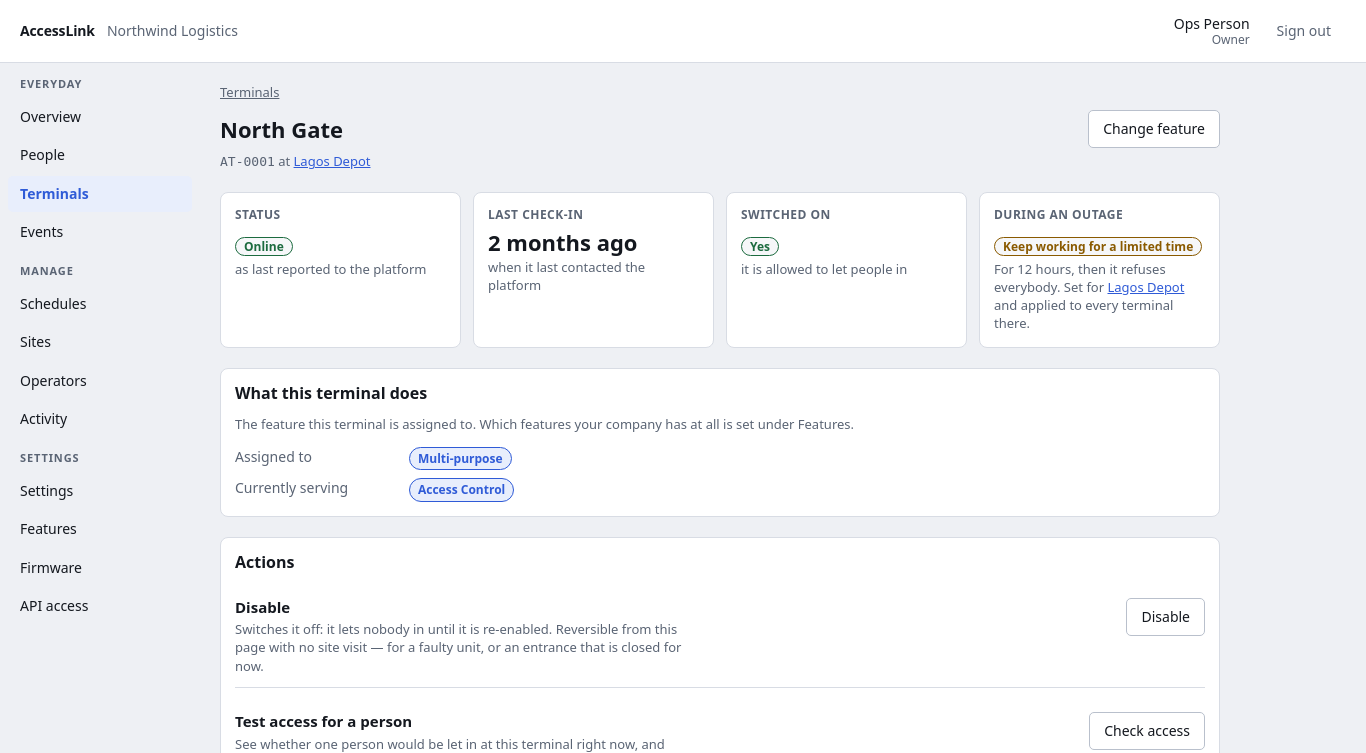
Test: the console works without a mouse › closes on Escape
expect the heading "Actions" is shown: met, box [235,550,294,572]
Click the button "Disable": (1166, 617) [1126,598,1205,636]
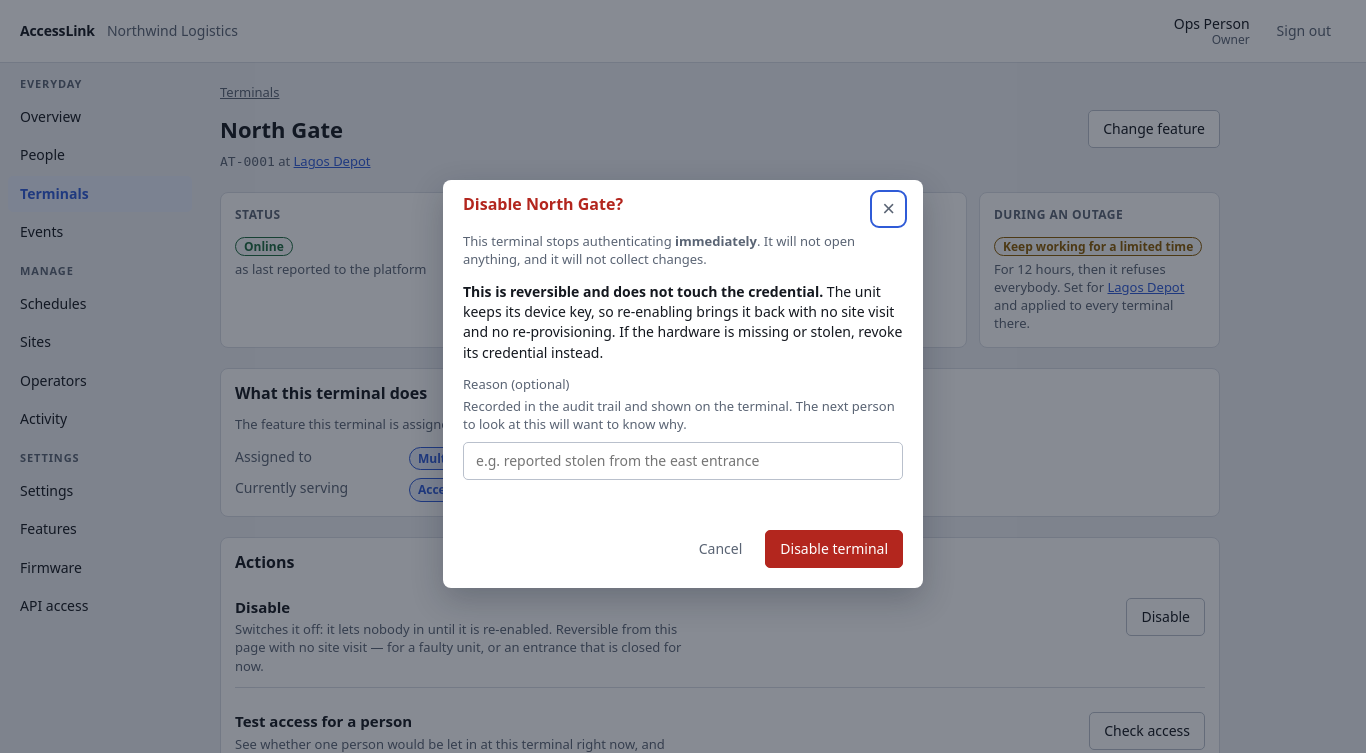
expect the dialog is shown: met, box [443,180,923,588]
Press Escape
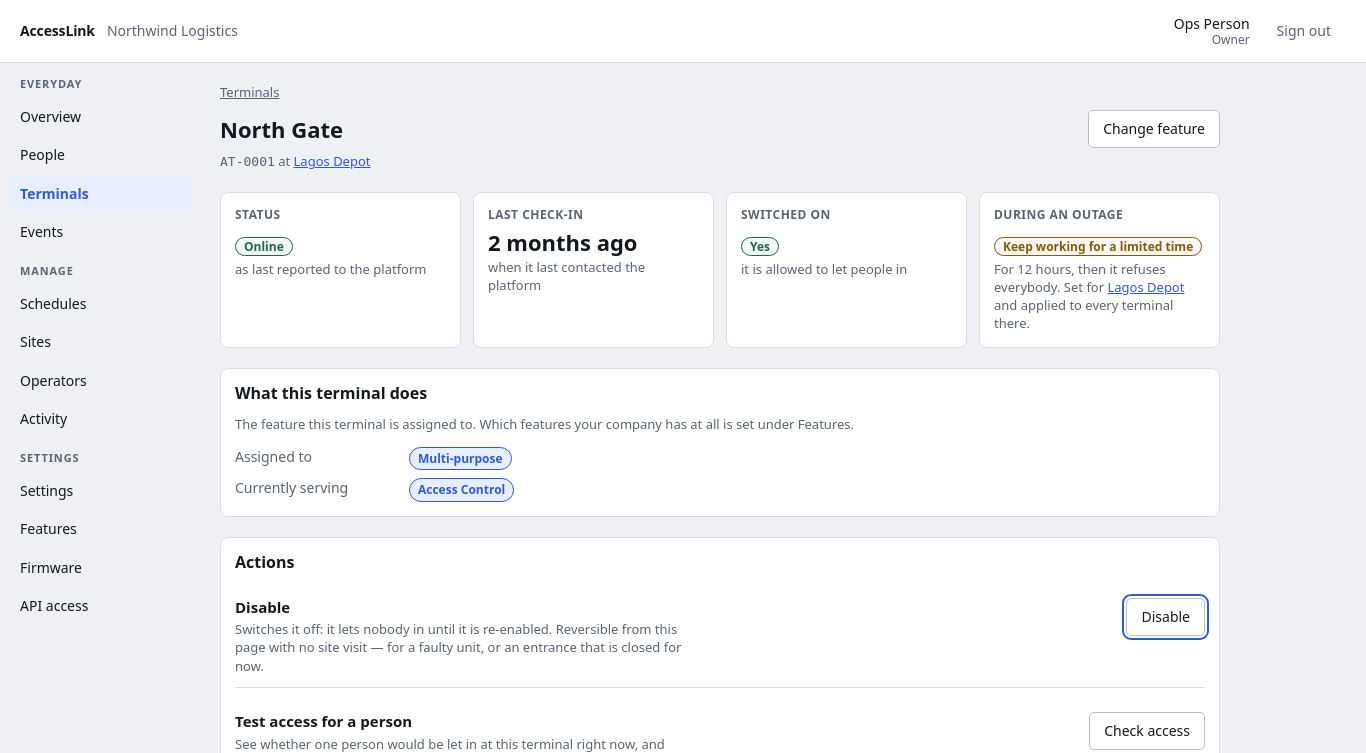
expect the dialog is gone: met
